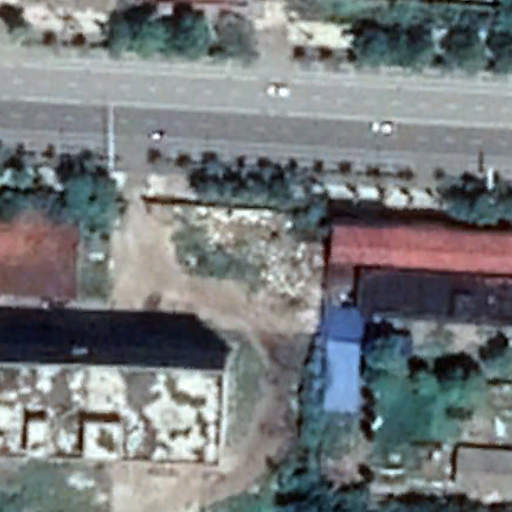msw: (188, 205, 323, 308)
